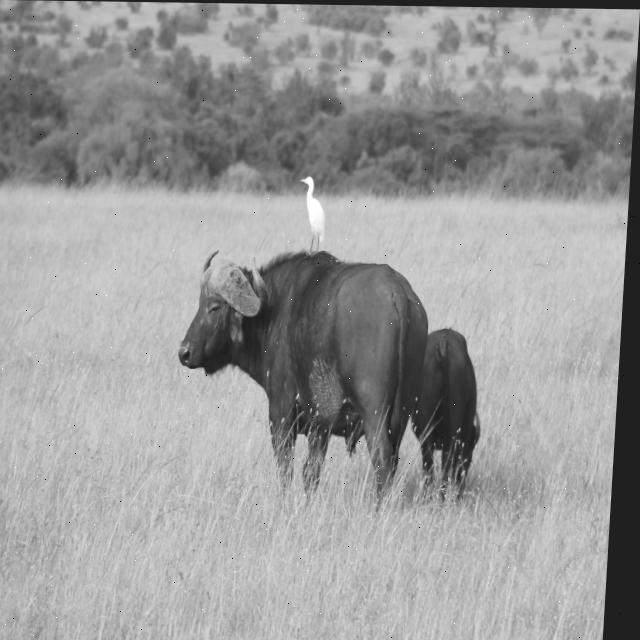Buffalo: (168, 248, 431, 511), (414, 327, 485, 505)
